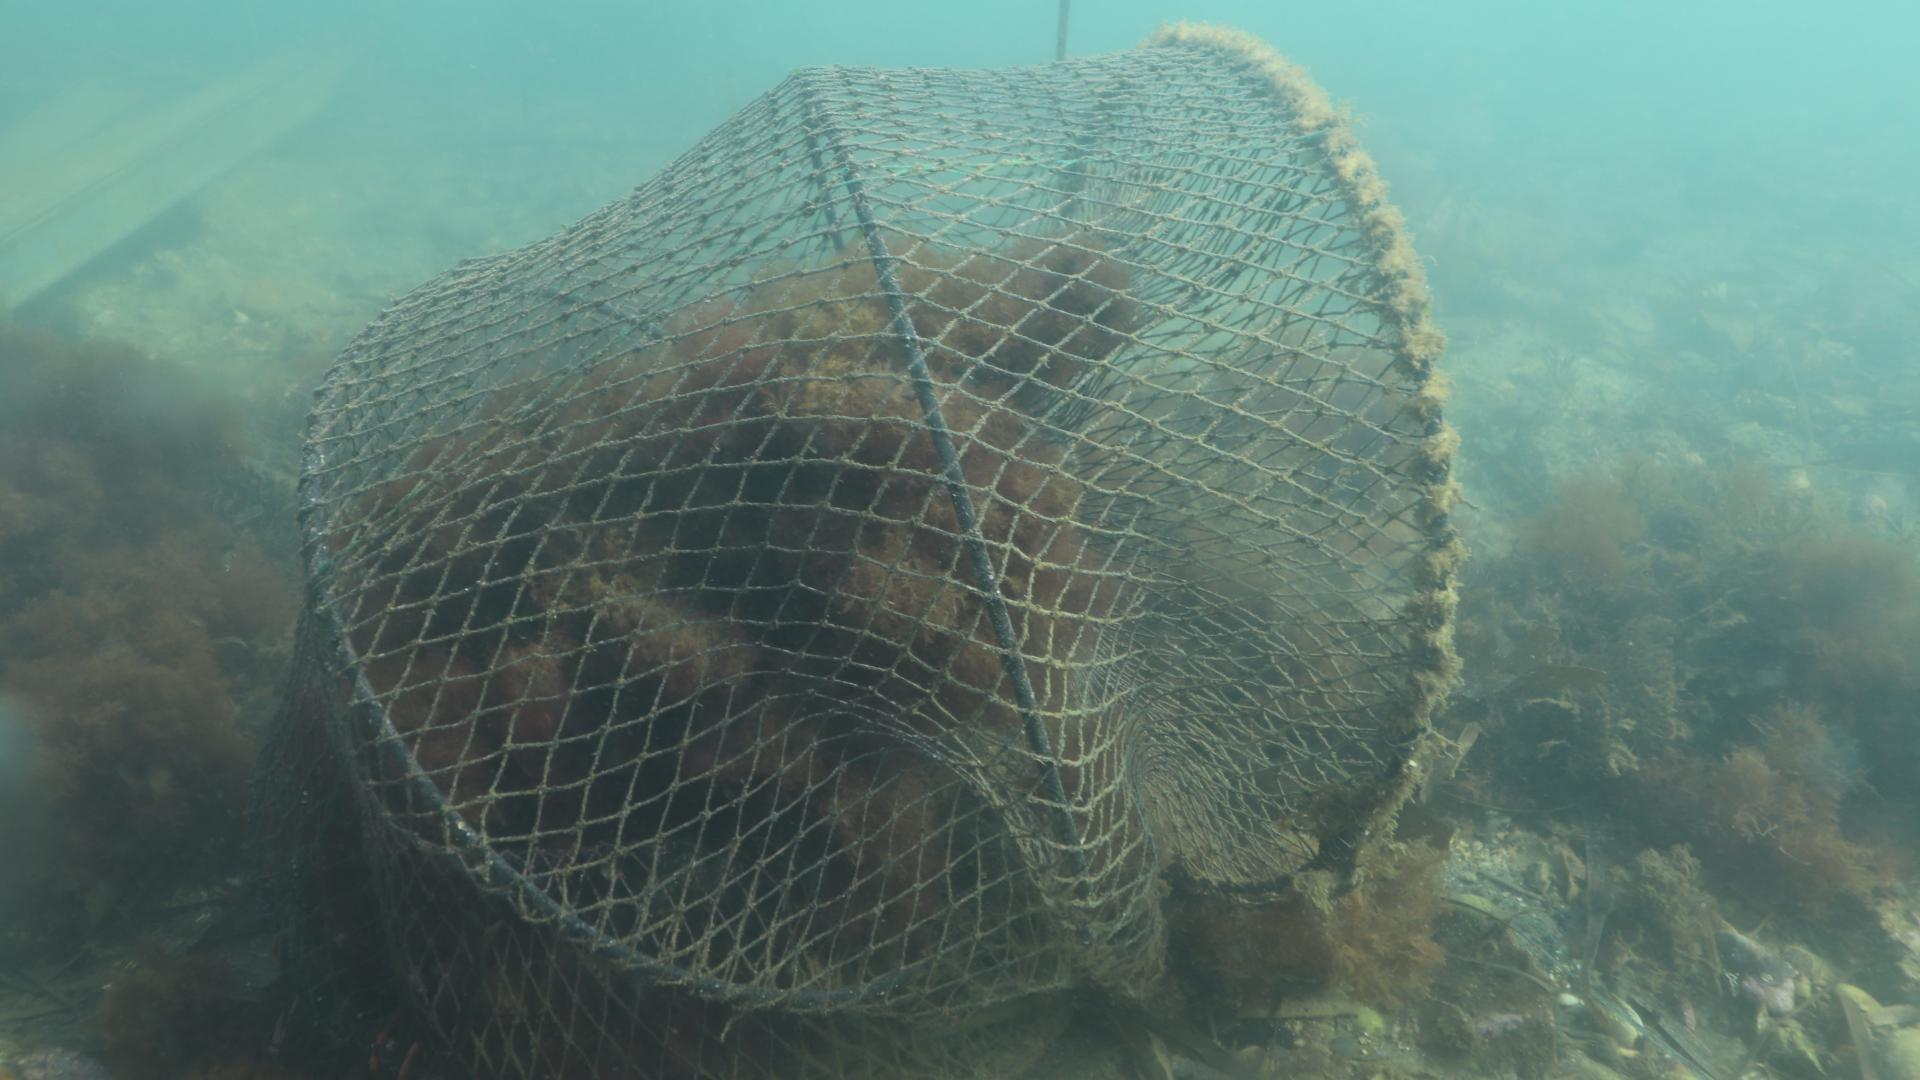spring fish trap: (287, 21, 1453, 1080)
